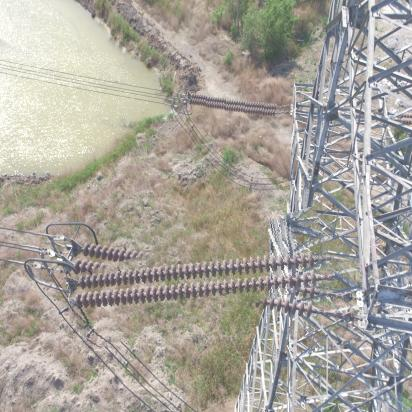insulator: (69, 224, 335, 336), (189, 94, 283, 118)
